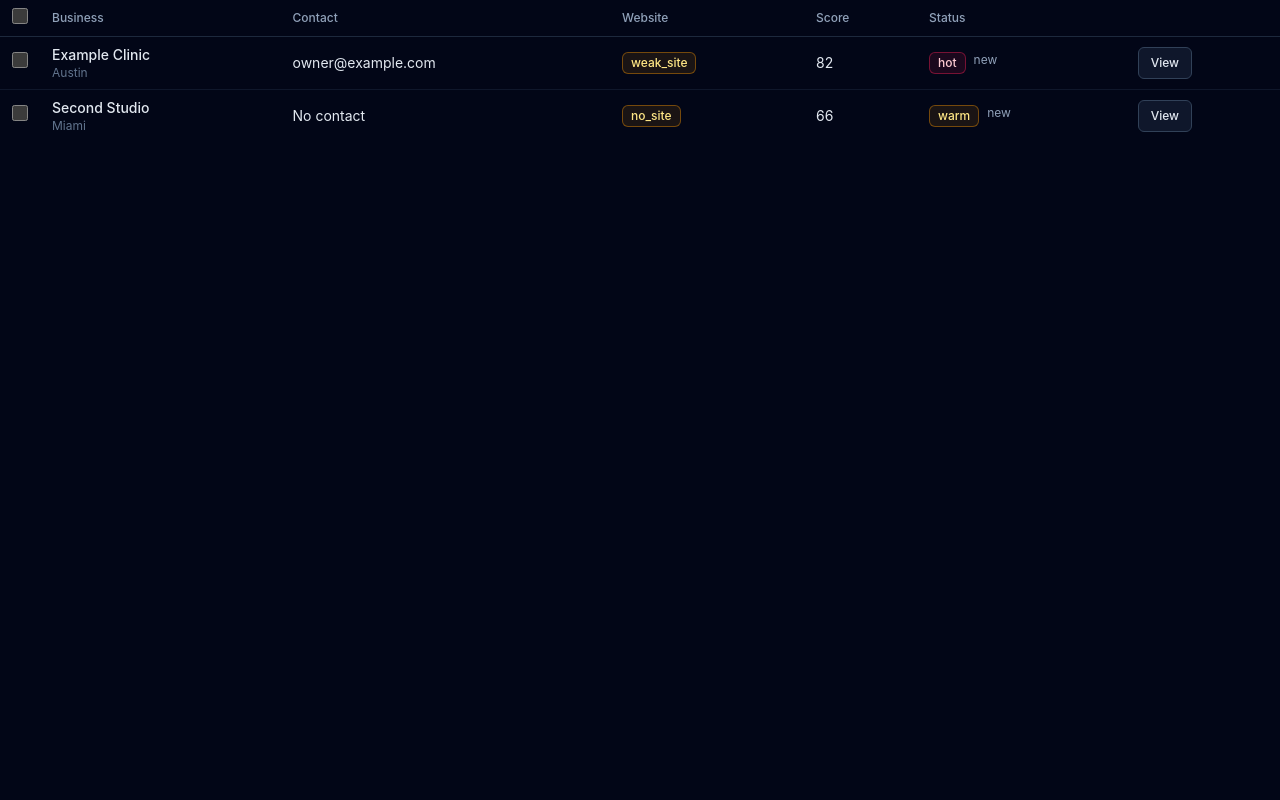
Scenario: bulk outreach selection UI › excludes Email leads without saved addresses without generating drafts
Click the checkbox named "Select Second Studio" at (20, 113), box x1=12 y1=105 x2=28 y2=121
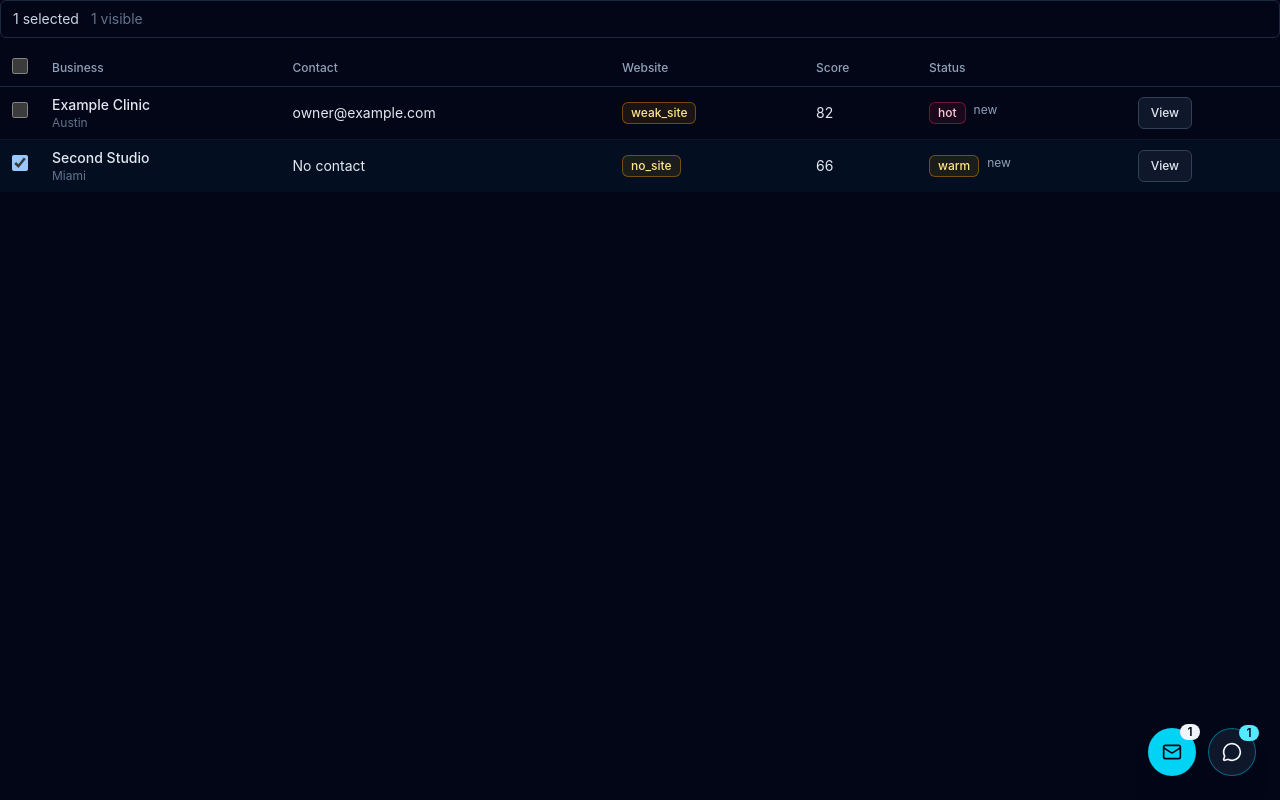
Click the button named "Review email for 1 selected leads" at (1172, 752), box x1=1148 y1=728 x2=1196 y2=776
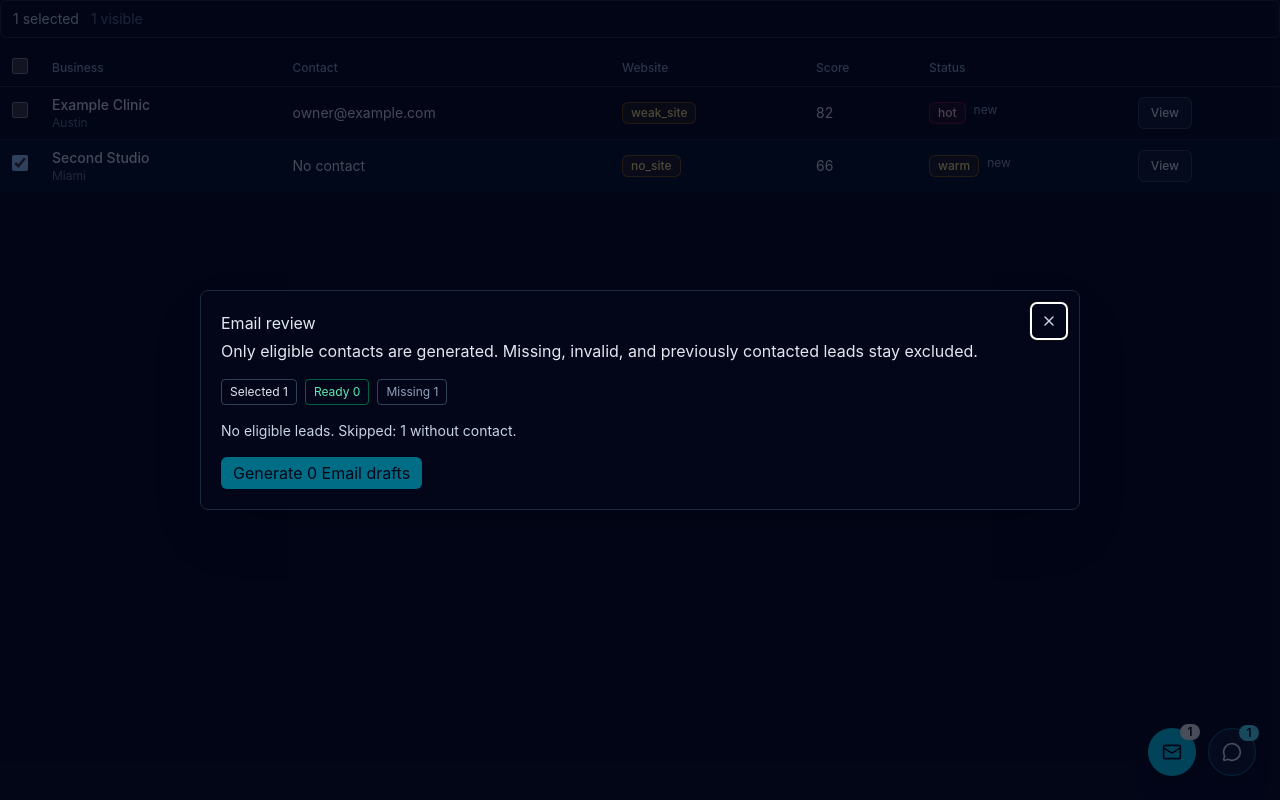
Expected: the text "No eligible leads. Skipped: 1 without contact." is shown, x1=221 y1=422 x2=517 y2=439
Expected: the button "Generate 0 Email drafts" is disabled, x1=221 y1=457 x2=422 y2=489
